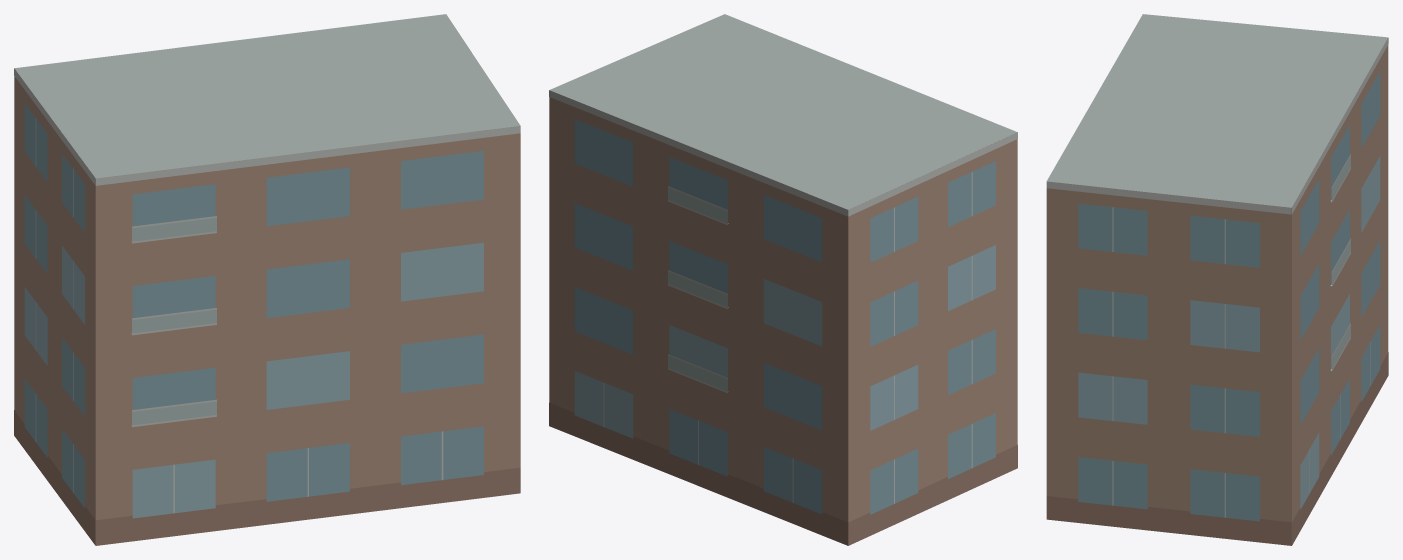
File: survey-upis-32563957.glb
3 views of the same model, side by side, from view 1: azimuth 30°, elevation 25°; view 2: azimuth 150°, elevation 25°; view 3: azimuth 270°, elevation 25° (orthographic). The views are drawn at different scales.
Parts seen in each view (by area): view 1: survey-upis-32563957.tmp; view 2: survey-upis-32563957.tmp; view 3: survey-upis-32563957.tmp.
Part boxes in pixels (left/top/right/bottom): survey-upis-32563957.tmp: left=14, top=14, right=520, bottom=545; survey-upis-32563957.tmp: left=549, top=14, right=1017, bottom=545; survey-upis-32563957.tmp: left=1046, top=14, right=1388, bottom=545.
Bounding box in the file's own units: 15.01 × 12.2 × 11.19.
